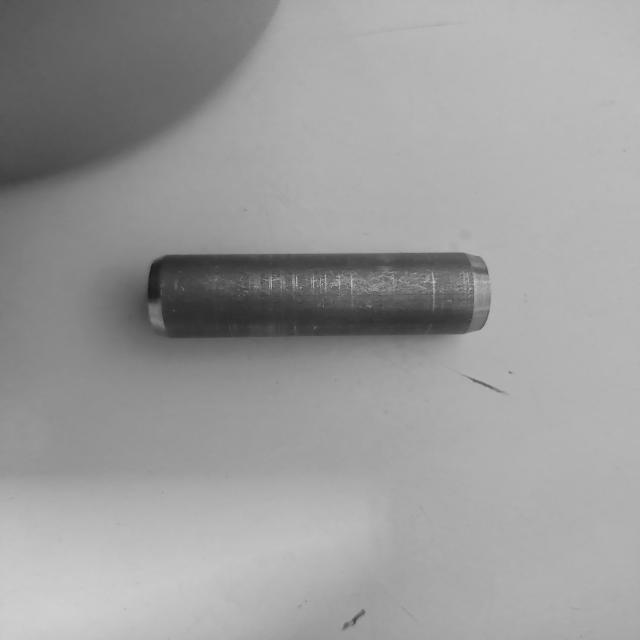Broken: (144, 248, 496, 341)
